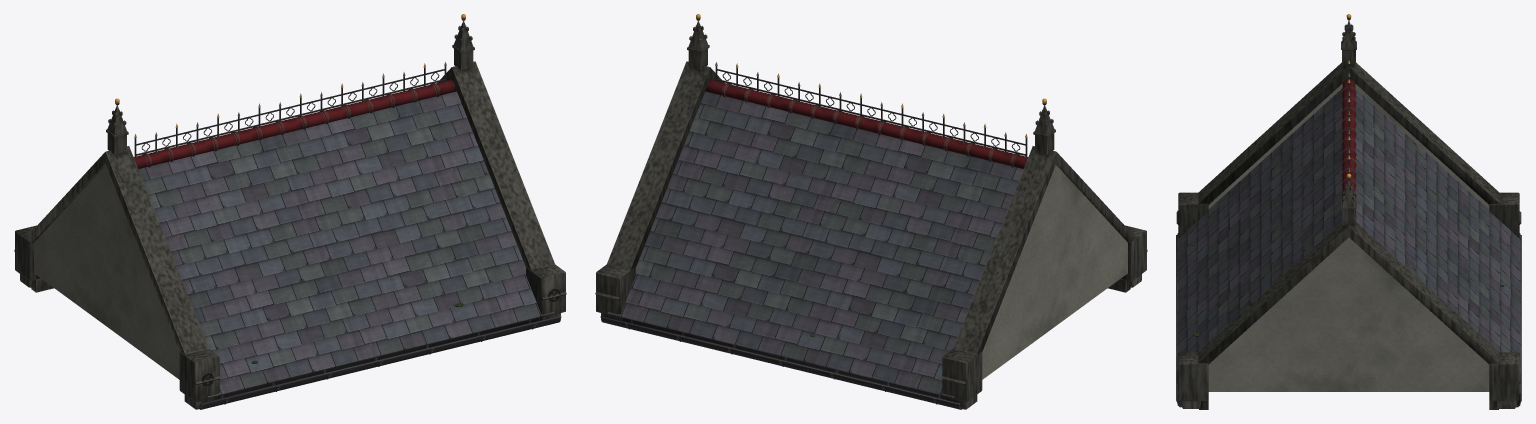
The model's file is GableRoof.fbx.
3 views of the same model, side by side, from view 1: azimuth 30°, elevation 25°; view 2: azimuth 150°, elevation 25°; view 3: azimuth 270°, elevation 25° (orthographic). The views are drawn at different scales.
Visible parts, largest first — view 1: GableRoof_Slate, GableRoof_Main, GableRoof_Stone; view 2: GableRoof_Slate, GableRoof_Main, GableRoof_Stone; view 3: GableRoof_Slate, GableRoof_Stone, GableRoof_Main.
Boxes of the visible parts, bbox=[...] form: GableRoof_Slate: bbox=[138, 91, 554, 397]; GableRoof_Main: bbox=[14, 14, 566, 409]; GableRoof_Stone: bbox=[34, 165, 179, 379]; GableRoof_Slate: bbox=[607, 91, 1023, 397]; GableRoof_Main: bbox=[595, 14, 1147, 409]; GableRoof_Stone: bbox=[982, 165, 1127, 379]; GableRoof_Slate: bbox=[1177, 88, 1520, 393]; GableRoof_Stone: bbox=[1208, 84, 1489, 391]; GableRoof_Main: bbox=[1176, 14, 1521, 409].
Bounding box in the file's own units: 1630 × 1035 × 1392.
